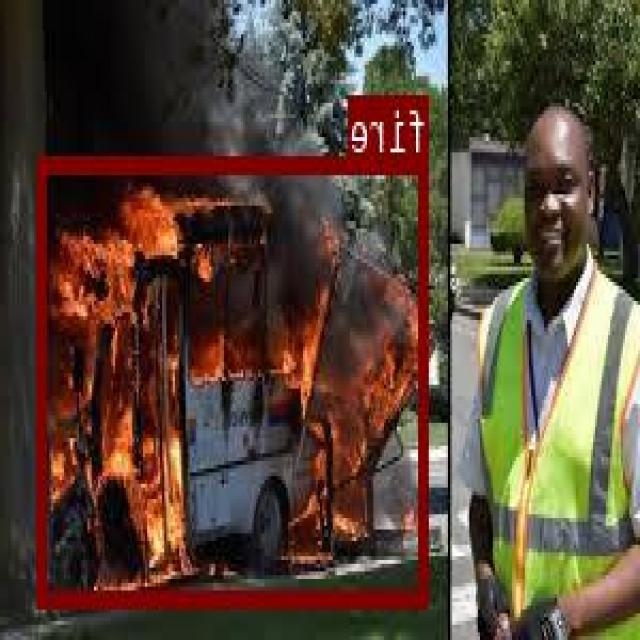fire: (39, 156, 430, 604)
